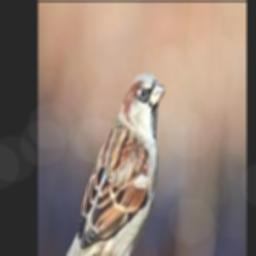Sparrow: (51, 72, 164, 256)
